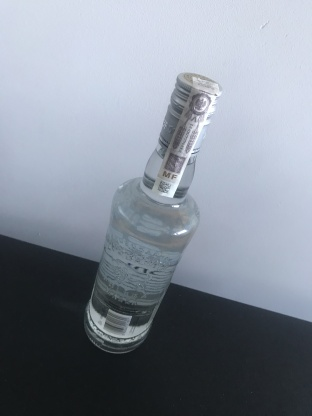nakretka: (156, 69, 224, 157)
